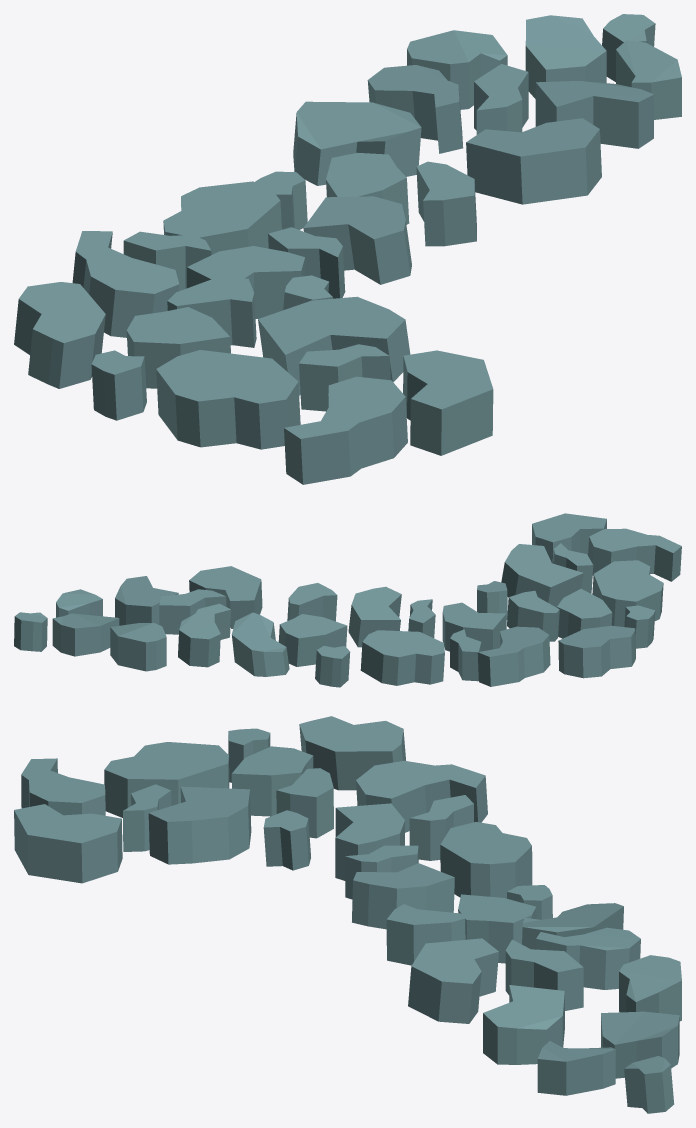
File: fbTrack4.fbx
The picture shows the model from 3 angles, top to bottom: view 1: azimuth 30°, elevation 25°; view 2: azimuth 150°, elevation 25°; view 3: azimuth 270°, elevation 25°; orthographic projection. The views are drawn at different scales.
Visible parts, largest first — view 1: polySurface69; view 2: polySurface69; view 3: polySurface69.
Boxes of the visible parts, x1=… form: polySurface69: x1=14, y1=14, x2=681, y2=484; polySurface69: x1=14, y1=513, x2=681, y2=687; polySurface69: x1=14, y1=716, x2=681, y2=1113.
Size of the model in its own units: 2.82 by 0.2942 by 2.35.
